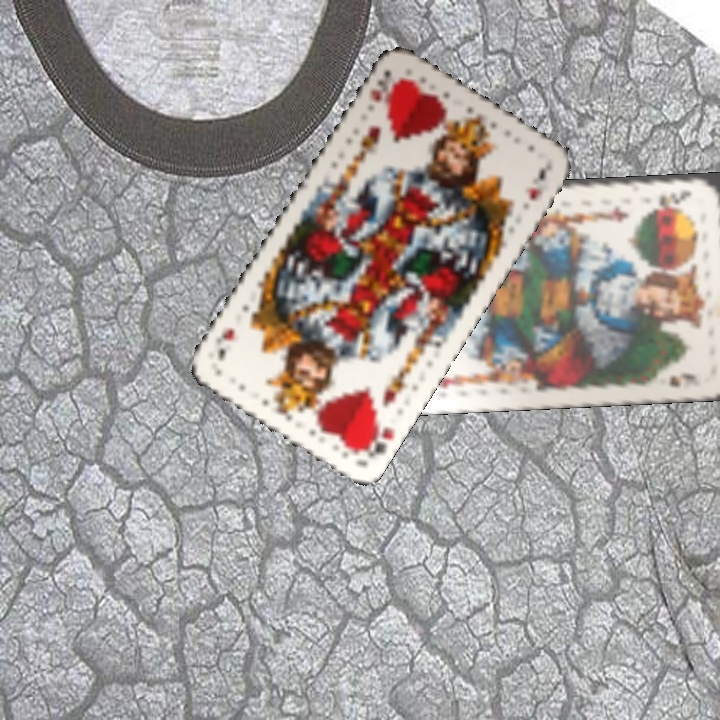HK: (354, 420, 397, 461), (365, 65, 402, 106)
SK: (656, 185, 695, 209)
